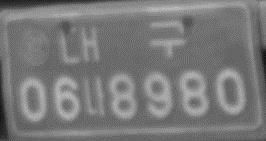0: (214, 68, 248, 115), (19, 76, 48, 123)
6: (52, 75, 81, 122)
8: (178, 69, 210, 118), (108, 72, 138, 122)
9: (143, 70, 173, 119)
나: (83, 74, 107, 119)
대구_D: (58, 19, 187, 65)
영: (18, 28, 52, 68)
